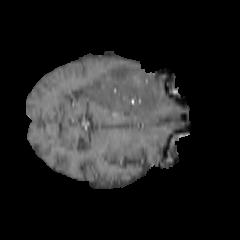glioma: (78, 63, 161, 121)
